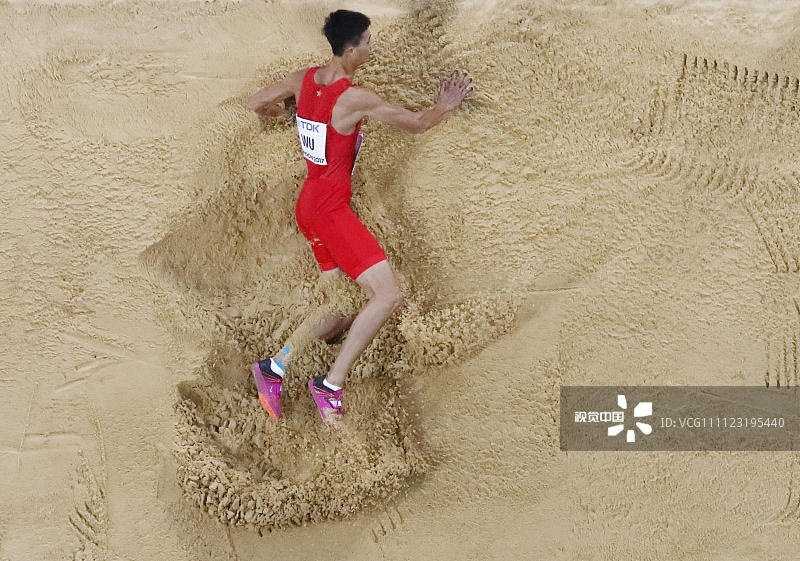falling: (246, 10, 476, 427)
